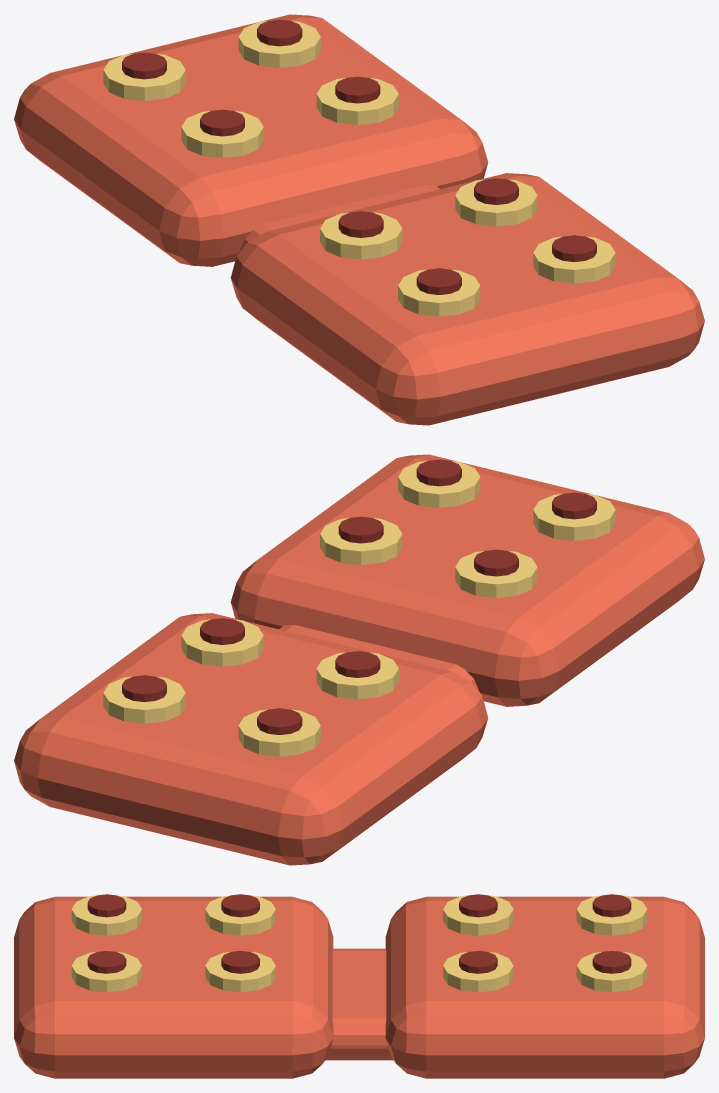
The model's file is PR3D_Container_1x2.glb.
3 renders of one model, top to bottom at view 1: azimuth 30°, elevation 25°; view 2: azimuth 150°, elevation 25°; view 3: azimuth 270°, elevation 25°, orthographic. The views are drawn at different scales.
Visible parts, largest first — view 1: Visual_1x2_Base_00, Visual_1x2_Base_01, Visual_1x2_Cheese_00_01, Visual_1x2_Cheese_01_02, Visual_1x2_Cheese_00_00, Visual_1x2_Cheese_00_03, Visual_1x2_Cheese_01_00, Visual_1x2_Cheese_00_02, Visual_1x2_Cheese_01_01, Visual_1x2_Cheese_01_03, Visual_1x2_Bridge_00, Visual_1x2_Tomato_01_03 (+7 smaller); view 2: Visual_1x2_Base_01, Visual_1x2_Base_00, Visual_1x2_Cheese_01_00, Visual_1x2_Cheese_00_03, Visual_1x2_Cheese_01_01, Visual_1x2_Cheese_00_01, Visual_1x2_Cheese_01_02, Visual_1x2_Cheese_01_03, Visual_1x2_Cheese_00_00, Visual_1x2_Cheese_00_02, Visual_1x2_Bridge_00, Visual_1x2_Tomato_00_02 (+7 smaller); view 3: Visual_1x2_Base_00, Visual_1x2_Base_01, Visual_1x2_Bridge_00, Visual_1x2_Cheese_00_00, Visual_1x2_Cheese_01_01, Visual_1x2_Cheese_00_02, Visual_1x2_Cheese_01_03, Visual_1x2_Cheese_00_01, Visual_1x2_Cheese_00_03, Visual_1x2_Cheese_01_00, Visual_1x2_Cheese_01_02, Visual_1x2_Tomato_00_00 (+7 smaller).
Boxes of the visible parts, bbox=[...] form: Visual_1x2_Base_00: bbox=[230, 173, 704, 425]; Visual_1x2_Base_01: bbox=[14, 14, 488, 266]; Visual_1x2_Cheese_00_01: bbox=[320, 212, 402, 259]; Visual_1x2_Cheese_01_02: bbox=[316, 78, 398, 124]; Visual_1x2_Cheese_00_00: bbox=[398, 269, 480, 316]; Visual_1x2_Cheese_00_03: bbox=[455, 179, 537, 226]; Visual_1x2_Cheese_01_00: bbox=[181, 111, 263, 157]; Visual_1x2_Cheese_00_02: bbox=[533, 236, 615, 283]; Visual_1x2_Cheese_01_01: bbox=[103, 54, 185, 100]; Visual_1x2_Cheese_01_03: bbox=[238, 21, 320, 67]; Visual_1x2_Bridge_00: bbox=[240, 185, 439, 249]; Visual_1x2_Tomato_01_03: bbox=[257, 19, 302, 46]; Visual_1x2_Base_01: bbox=[14, 613, 488, 865]; Visual_1x2_Base_00: bbox=[230, 454, 704, 706]; Visual_1x2_Cheese_01_00: bbox=[316, 652, 398, 699]; Visual_1x2_Cheese_00_03: bbox=[320, 518, 402, 564]; Visual_1x2_Cheese_01_01: bbox=[238, 709, 320, 756]; Visual_1x2_Cheese_00_01: bbox=[455, 551, 537, 597]; Visual_1x2_Cheese_01_02: bbox=[181, 619, 263, 666]; Visual_1x2_Cheese_01_03: bbox=[103, 676, 185, 723]; Visual_1x2_Cheese_00_00: bbox=[533, 494, 615, 540]; Visual_1x2_Cheese_00_02: bbox=[398, 461, 480, 507]; Visual_1x2_Bridge_00: bbox=[279, 625, 478, 689]; Visual_1x2_Tomato_00_02: bbox=[416, 459, 461, 486]; Visual_1x2_Base_00: bbox=[14, 896, 333, 1078]; Visual_1x2_Base_01: bbox=[385, 896, 704, 1078]; Visual_1x2_Bridge_00: bbox=[325, 948, 393, 1060]; Visual_1x2_Cheese_00_00: bbox=[71, 895, 142, 935]; Visual_1x2_Cheese_01_01: bbox=[576, 895, 647, 935]; Visual_1x2_Cheese_00_02: bbox=[71, 952, 142, 992]; Visual_1x2_Cheese_01_03: bbox=[576, 952, 647, 992]; Visual_1x2_Cheese_00_01: bbox=[205, 895, 275, 935]; Visual_1x2_Cheese_00_03: bbox=[205, 952, 275, 992]; Visual_1x2_Cheese_01_00: bbox=[443, 895, 513, 935]; Visual_1x2_Cheese_01_02: bbox=[443, 952, 513, 992]; Visual_1x2_Tomato_00_00: bbox=[87, 894, 126, 917].
Bounding box in the file's own units: 0.86 × 0.2795 × 1.86.
